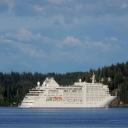cruises: (19, 75, 119, 111)
